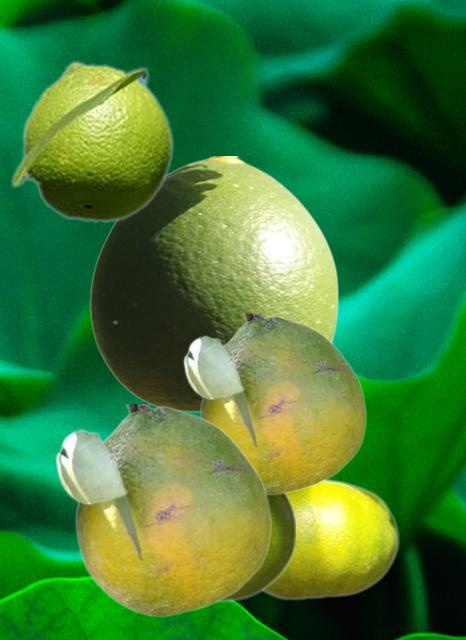dalandan: (89, 156, 338, 412), (54, 404, 271, 616), (182, 314, 366, 494), (9, 60, 174, 223), (263, 477, 398, 600), (221, 492, 294, 601)
